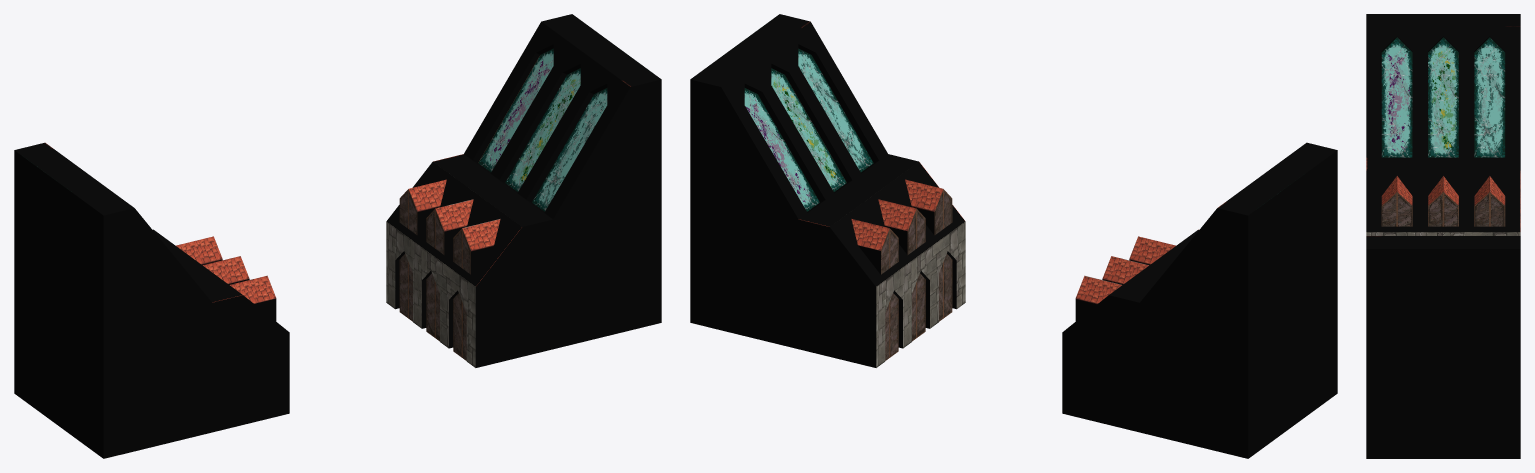
The model's file is side_ground.fbx.
3 views of the same model, side by side, from view 1: azimuth 30°, elevation 25°; view 2: azimuth 150°, elevation 25°; view 3: azimuth 270°, elevation 25° (orthographic). The views are drawn at different scales.
Visible parts, largest first — view 1: side01_text.001, side01_text; view 2: side01_text.001, side01_text; view 3: side01_text.001, side01_text.
Boxes of the visible parts, bbox=[...] form: side01_text.001: bbox=[386, 14, 661, 367]; side01_text: bbox=[14, 142, 289, 458]; side01_text.001: bbox=[690, 14, 965, 367]; side01_text: bbox=[1062, 142, 1337, 458]; side01_text.001: bbox=[1366, 236, 1520, 458]; side01_text: bbox=[1366, 14, 1520, 235].
Size of the model in its own units: 3600 by 1524 by 1000.
